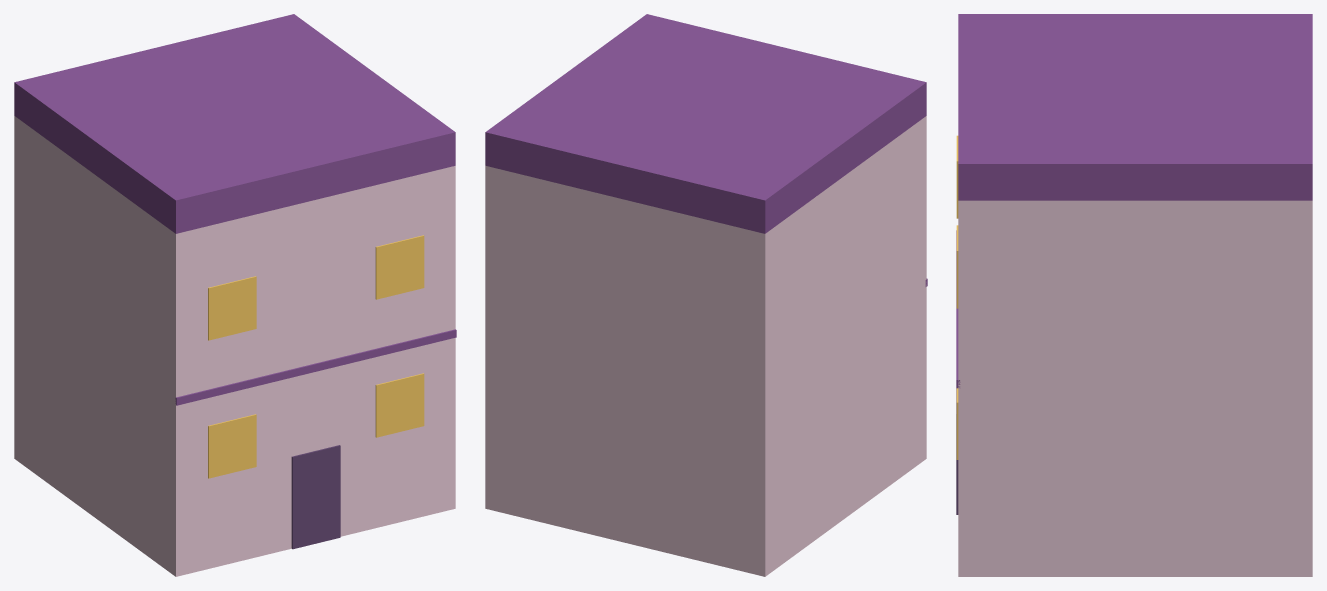
File: house-c.glb
3 renders of one model, left to right at view 1: azimuth 30°, elevation 25°; view 2: azimuth 150°, elevation 25°; view 3: azimuth 270°, elevation 25°, orthographic. The views are drawn at different scales.
Visible parts, largest first — view 1: house-c; view 2: house-c; view 3: house-c.
Boxes of the visible parts, x1=… form: house-c: x1=14, y1=14, x2=456, y2=576; house-c: x1=485, y1=14, x2=927, y2=576; house-c: x1=956, y1=14, x2=1312, y2=576.
Bounding box in the file's own units: 7 × 9 × 7.04.
